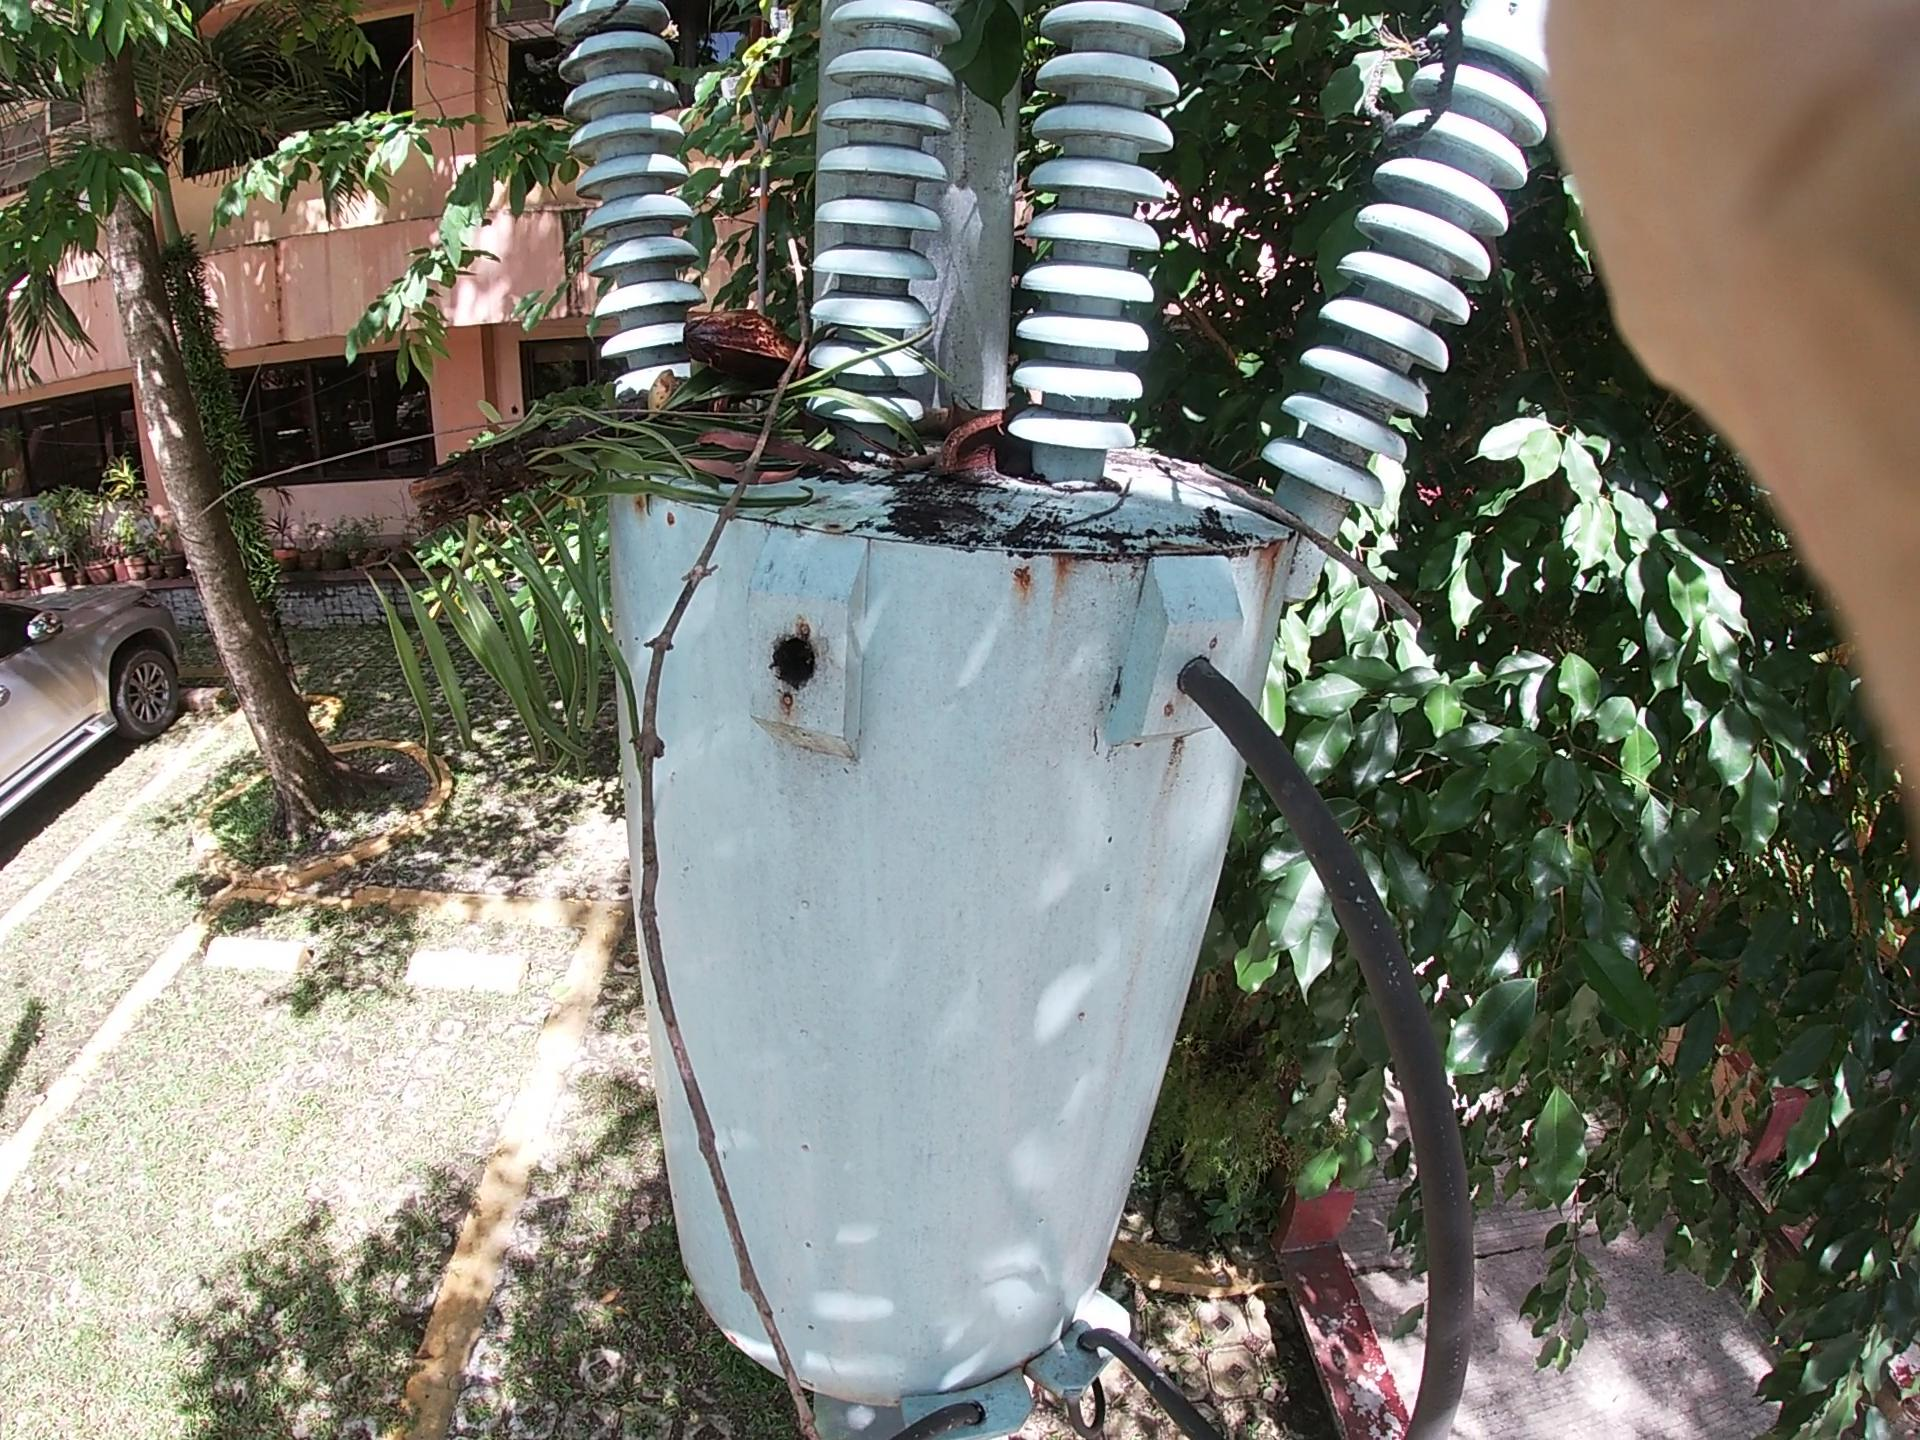branch with leaves: (218, 228, 1095, 655)
leaf: (470, 2, 1281, 312)
mahogany fruit: (887, 377, 1067, 520), (668, 256, 800, 427)
tree branch: (571, 100, 1092, 1317), (1108, 390, 1473, 650), (859, 404, 1030, 502)
